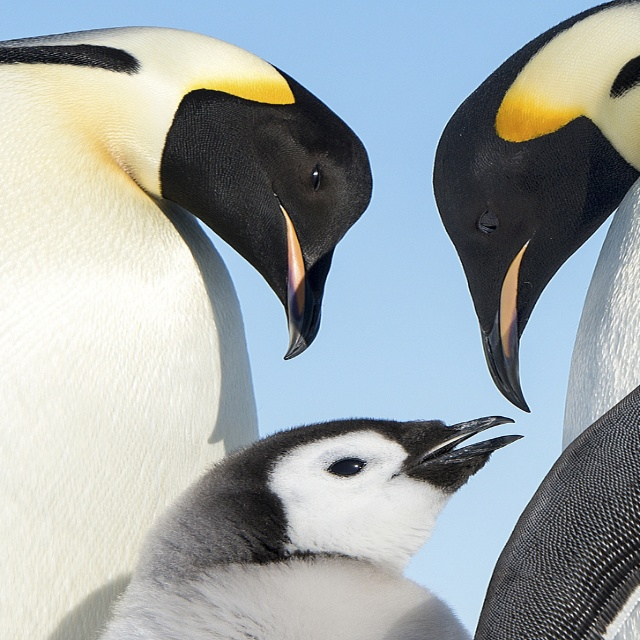Penguin: (0, 22, 371, 640), (431, 0, 639, 640), (88, 415, 530, 639)
